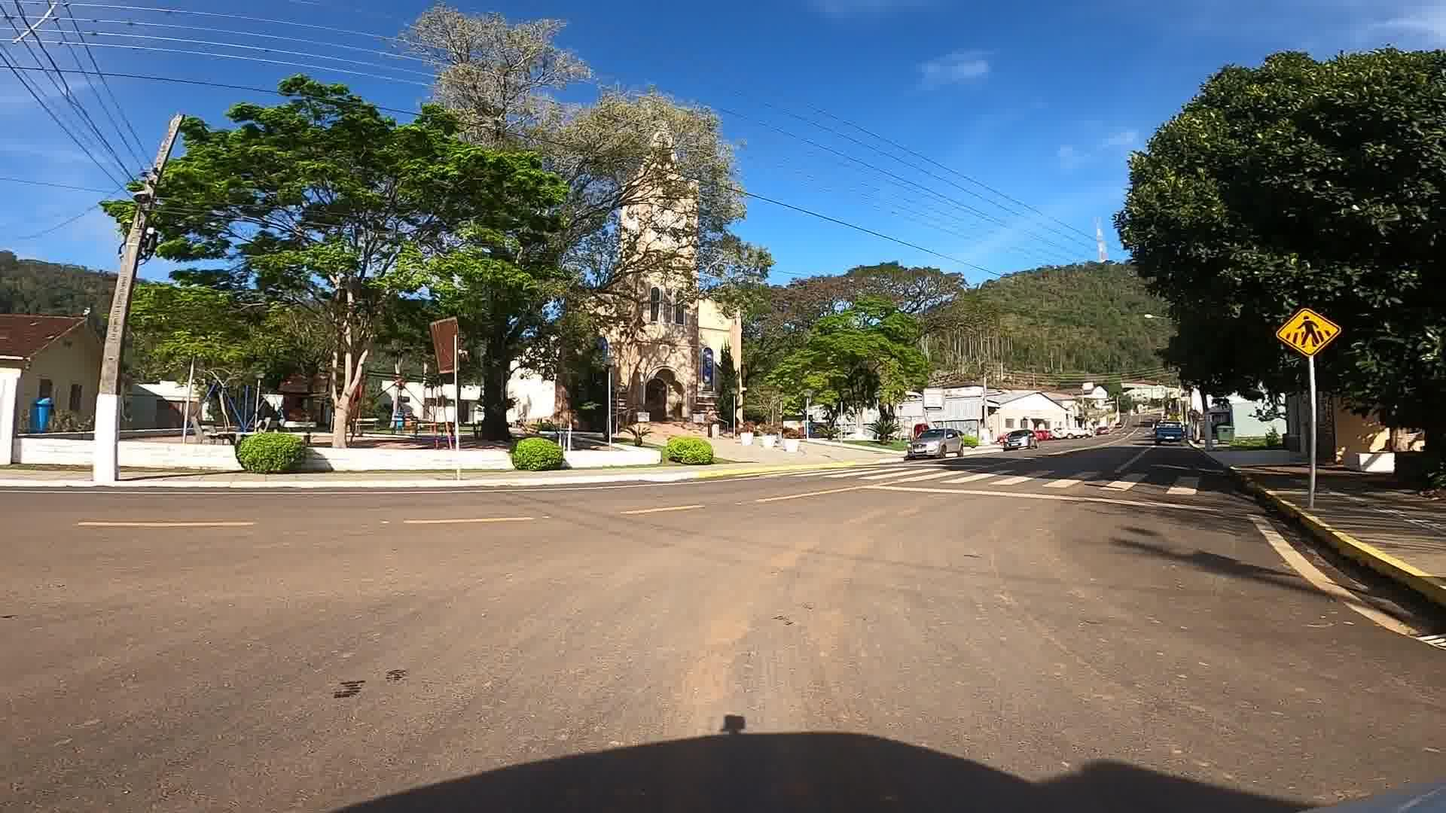A-32b: (1277, 303, 1343, 362)
